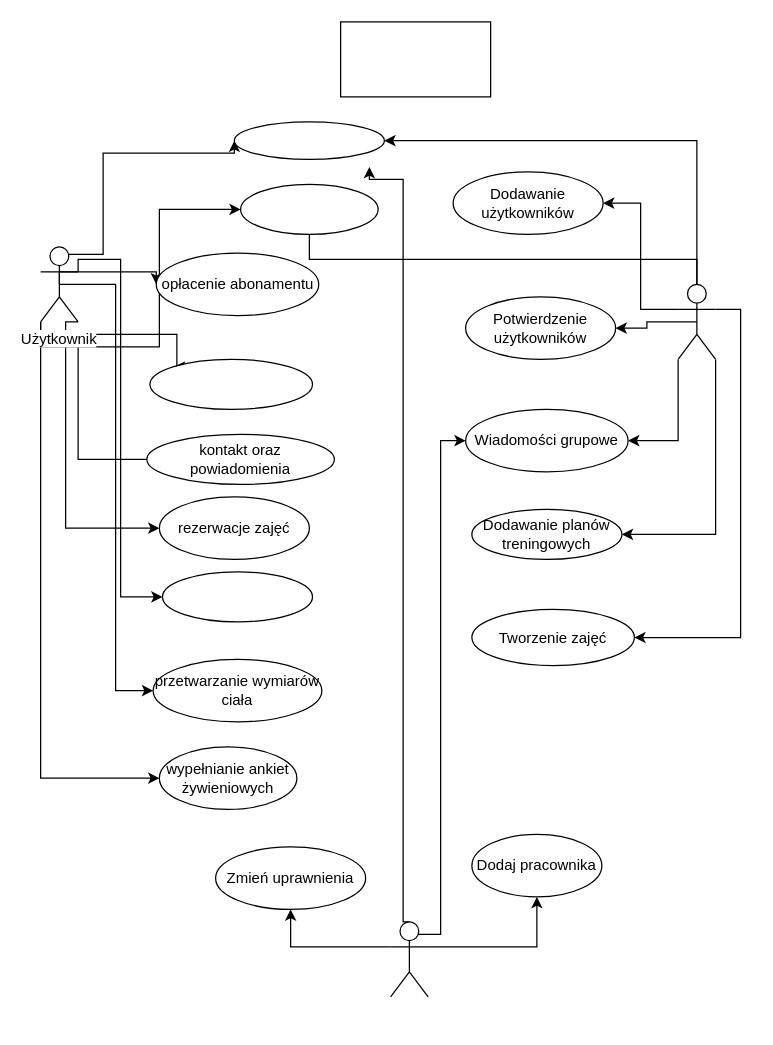
Some shapes in this 773 by 1045 pixel diagram are drawn without their labels. Here are the shapes that lost their labels. From the top down, the centre of each, then its label:
At point (415, 59): "Klub fitness".
At point (308, 140): "logowanie".
At point (308, 208): "sprawdzenie ilości wejściówek".
At point (696, 321): "Pracownik".
At point (230, 383): "zamawianie planu diety".
At point (236, 596): "ustalenie planu treningowego".
At point (408, 959): "Administrator".
